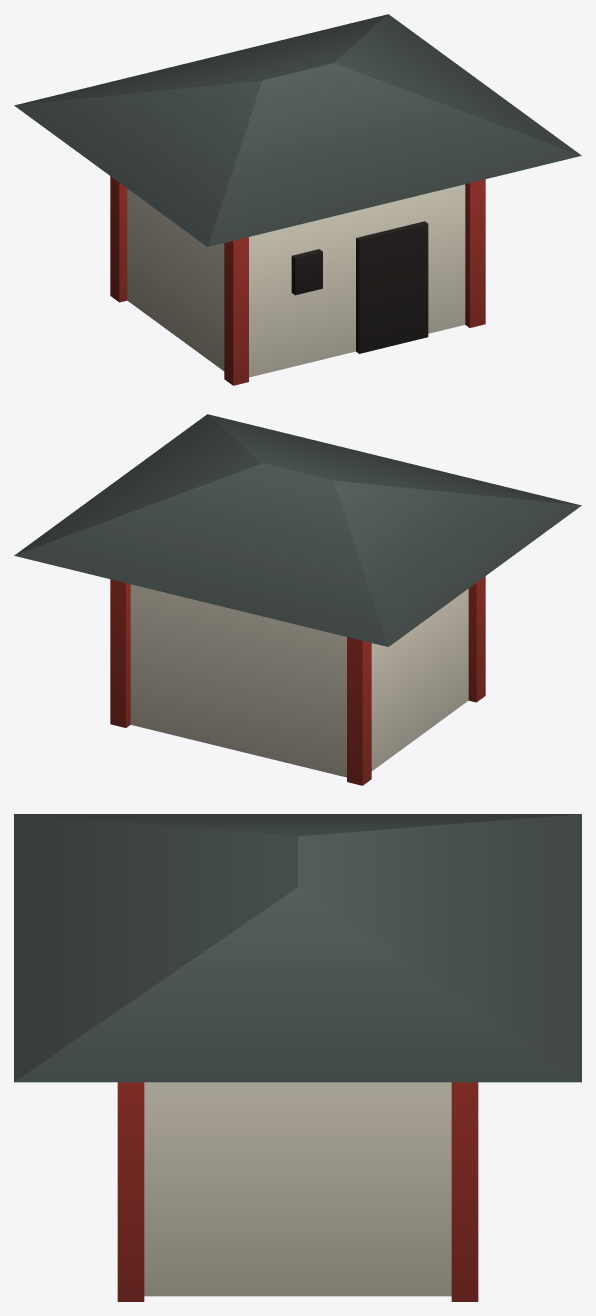
Rendered from house_EA_2b.glb.
The picture shows the model from 3 angles, top to bottom: view 1: azimuth 30°, elevation 25°; view 2: azimuth 150°, elevation 25°; view 3: azimuth 270°, elevation 25°; orthographic projection. The views are drawn at different scales.
Parts seen in each view (by area): view 1: Body; view 2: Body; view 3: Body.
Boxes of the visible parts, <box> form: Body: <box>14,14,581,385</box>; Body: <box>14,414,581,785</box>; Body: <box>14,814,581,1301</box>.
Size of the model in its own units: 1.9 by 1.15 by 1.7.
Materials: 1 (1 with a texture image).
